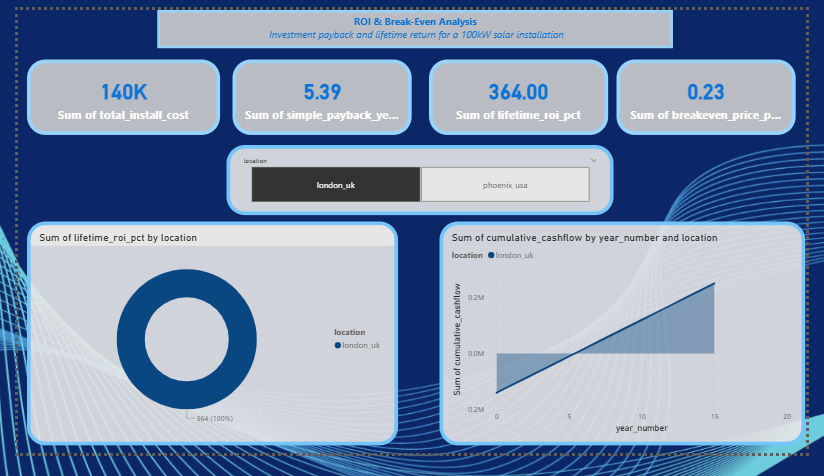

What the dashboard file says about the page in this screenshot:
{"tool":"powerbi","page":{"name":"ROI & Break-Even","canvas":[1280,720],"ordinal":4},"visuals":[{"type":"card","title":"Total Production","fields":{"Values":["Sum(roi_breakeven.breakeven_price_per_kwh_for_7yr_payback)"]},"box":[972.4,81,291.4,122.4],"z":0},{"type":"card","title":"Total Production","fields":{"Values":["Sum(roi_breakeven.lifetime_roi_pct)"]},"box":[669,81,291.4,122.4],"z":1000},{"type":"card","title":"Total Production","fields":{"Values":["Sum(roi_breakeven.simple_payback_years)"]},"box":[348.3,81,291.4,122.4],"z":2000},{"type":"card","title":"Total Production","fields":{"Values":["Sum(roi_breakeven.total_install_cost)"]},"box":[13.8,81,313.8,122.4],"z":3000},{"type":"slicer","fields":{"Values":["roi_breakeven.location"]},"box":[337.9,219,629.3,113.8],"z":4000},{"type":"areaChart","fields":{"Category":["roi_breakeven_yearly.year_number"],"Y":["Sum(roi_breakeven_yearly.cumulative_cashflow)"],"Series":["roi_breakeven_yearly.location"]},"box":[684.5,344.8,594.8,363.8],"z":5000},{"type":"donutChart","fields":{"Category":["roi_breakeven.location"],"Y":["Sum(roi_breakeven.lifetime_roi_pct)"]},"box":[13.8,344.8,603.4,363.8],"z":6000},{"type":"textbox","box":[225.9,0,837.9,62.1],"z":6001}]}

Visuals, with their boxes in screenshot pixels (x1, y1, x2, y2), scaled from the page's 1280x720 canvas onto the 824x476 screenshot:
"Total Production" card: {"x1": 626, "y1": 54, "x2": 814, "y2": 134}
"Total Production" card: {"x1": 431, "y1": 54, "x2": 618, "y2": 134}
"Total Production" card: {"x1": 224, "y1": 54, "x2": 412, "y2": 134}
"Total Production" card: {"x1": 9, "y1": 54, "x2": 211, "y2": 134}
slicer - roi_breakeven.location: {"x1": 218, "y1": 145, "x2": 623, "y2": 220}
areaChart - roi_breakeven_yearly.year_number x Sum(roi_breakeven_yearly.cumulative_cashflow): {"x1": 441, "y1": 228, "x2": 823, "y2": 468}
donutChart - roi_breakeven.location x Sum(roi_breakeven.lifetime_roi_pct): {"x1": 9, "y1": 228, "x2": 397, "y2": 468}
textbox: {"x1": 145, "y1": 0, "x2": 685, "y2": 41}
